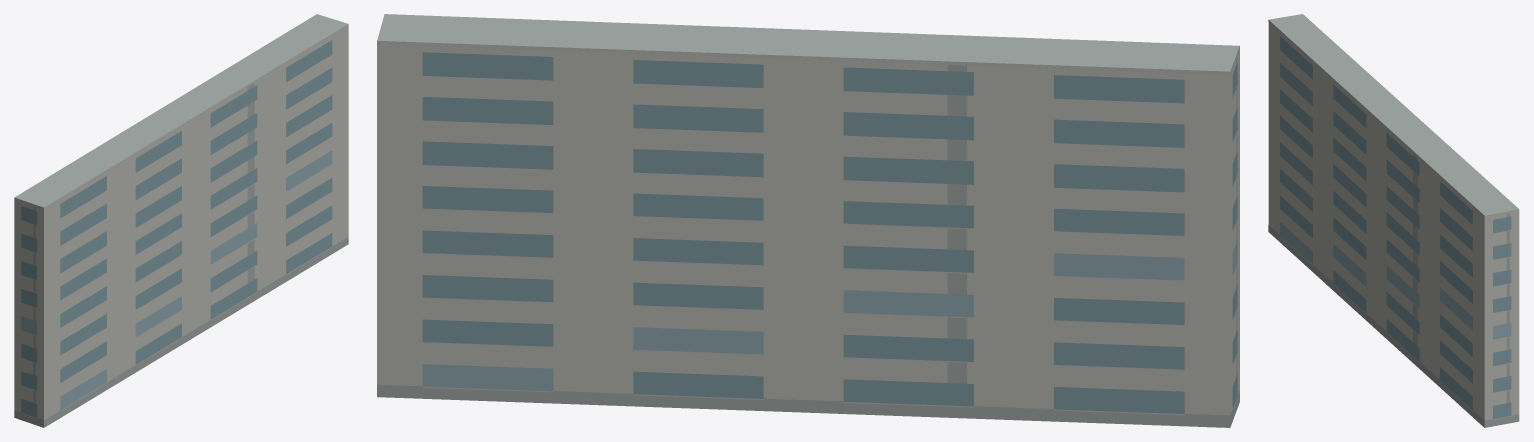
The model's file is survey-upis-32604533.glb.
3 renders of one model, left to right at view 1: azimuth 30°, elevation 25°; view 2: azimuth 150°, elevation 25°; view 3: azimuth 270°, elevation 25°, orthographic. The views are drawn at different scales.
Visible parts, largest first — view 1: survey-upis-32604533.tmp; view 2: survey-upis-32604533.tmp; view 3: survey-upis-32604533.tmp.
Boxes of the visible parts, left/top/right/bottom form: survey-upis-32604533.tmp: left=14, top=14, right=348, bottom=427; survey-upis-32604533.tmp: left=377, top=14, right=1239, bottom=427; survey-upis-32604533.tmp: left=1268, top=14, right=1519, bottom=427.
Bounding box in the file's own units: 49.69 × 24.4 × 26.14.
